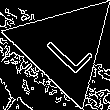L_NW: (35, 18, 93, 76)
